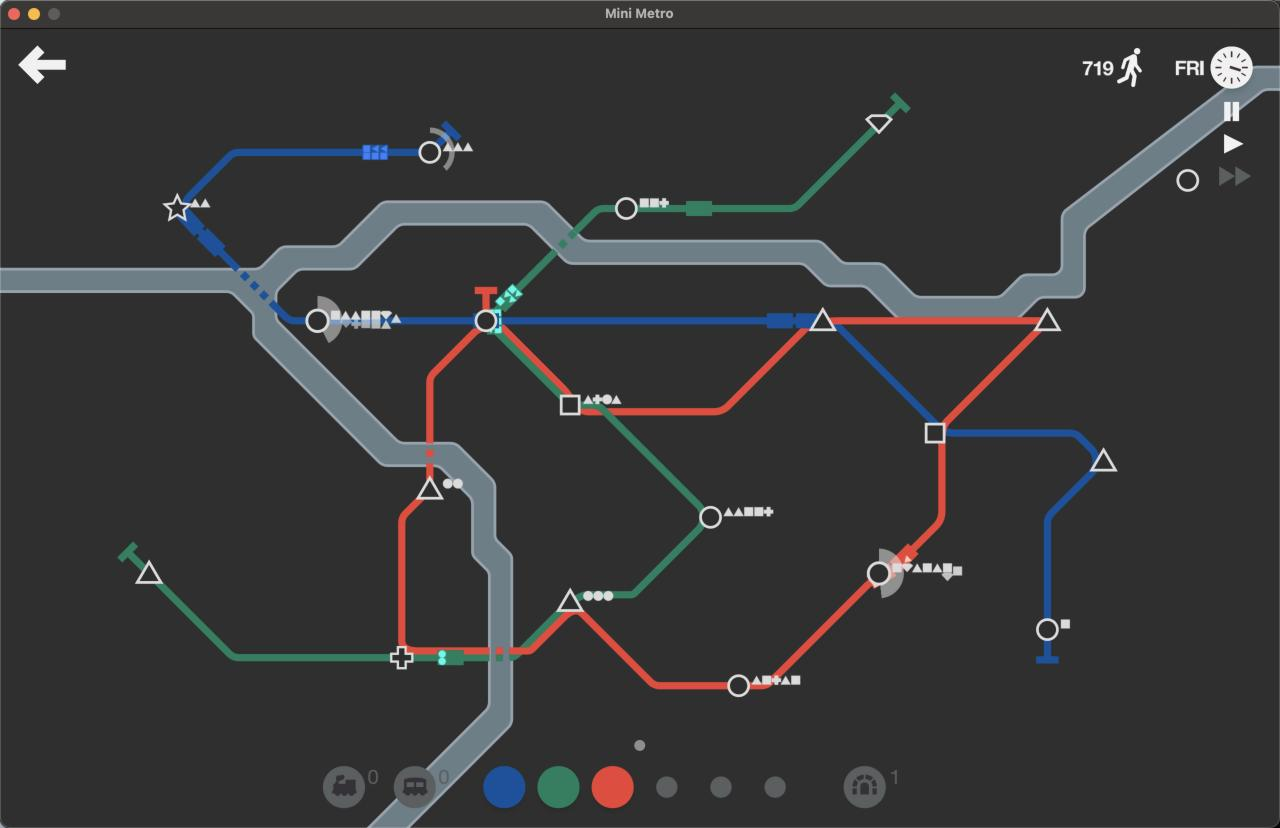CIRCLE: (305, 307, 331, 335), (473, 308, 501, 334), (866, 560, 892, 587), (1035, 617, 1060, 642), (727, 673, 751, 698), (418, 140, 442, 164), (699, 505, 723, 529), (614, 196, 638, 219), (1176, 168, 1199, 192)
CROSS: (389, 646, 413, 669)
DIAMOND: (864, 113, 892, 135)
SQUARE: (559, 394, 582, 416), (924, 422, 947, 444)
STAR: (162, 193, 191, 222)
TRIANGLE: (415, 475, 445, 502), (134, 560, 163, 586), (556, 587, 584, 613), (809, 307, 836, 332), (1090, 447, 1117, 472), (1034, 307, 1062, 331)
